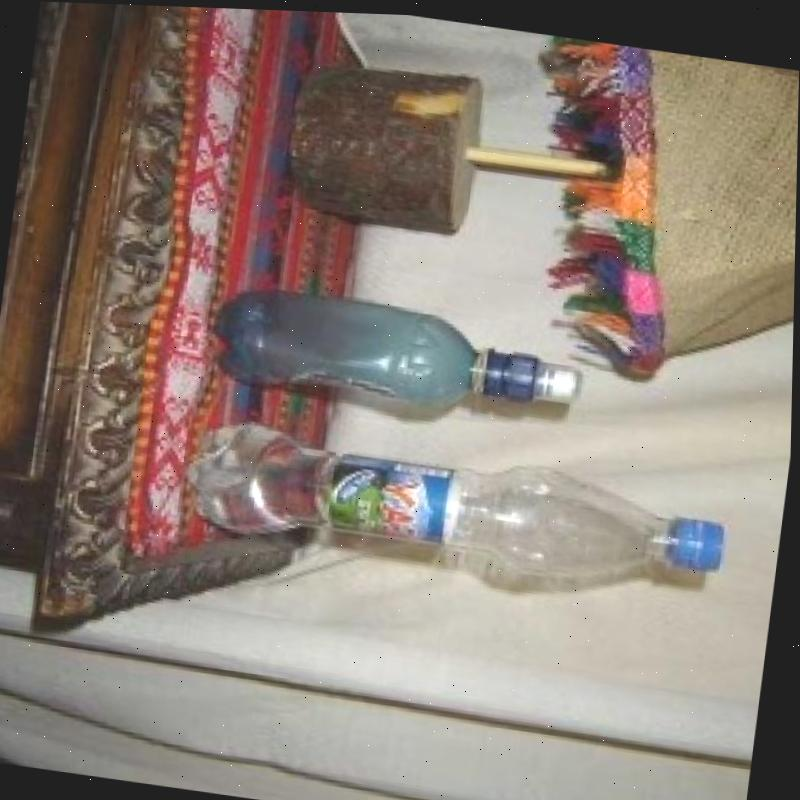botella: (186, 417, 728, 613), (202, 275, 587, 443)
